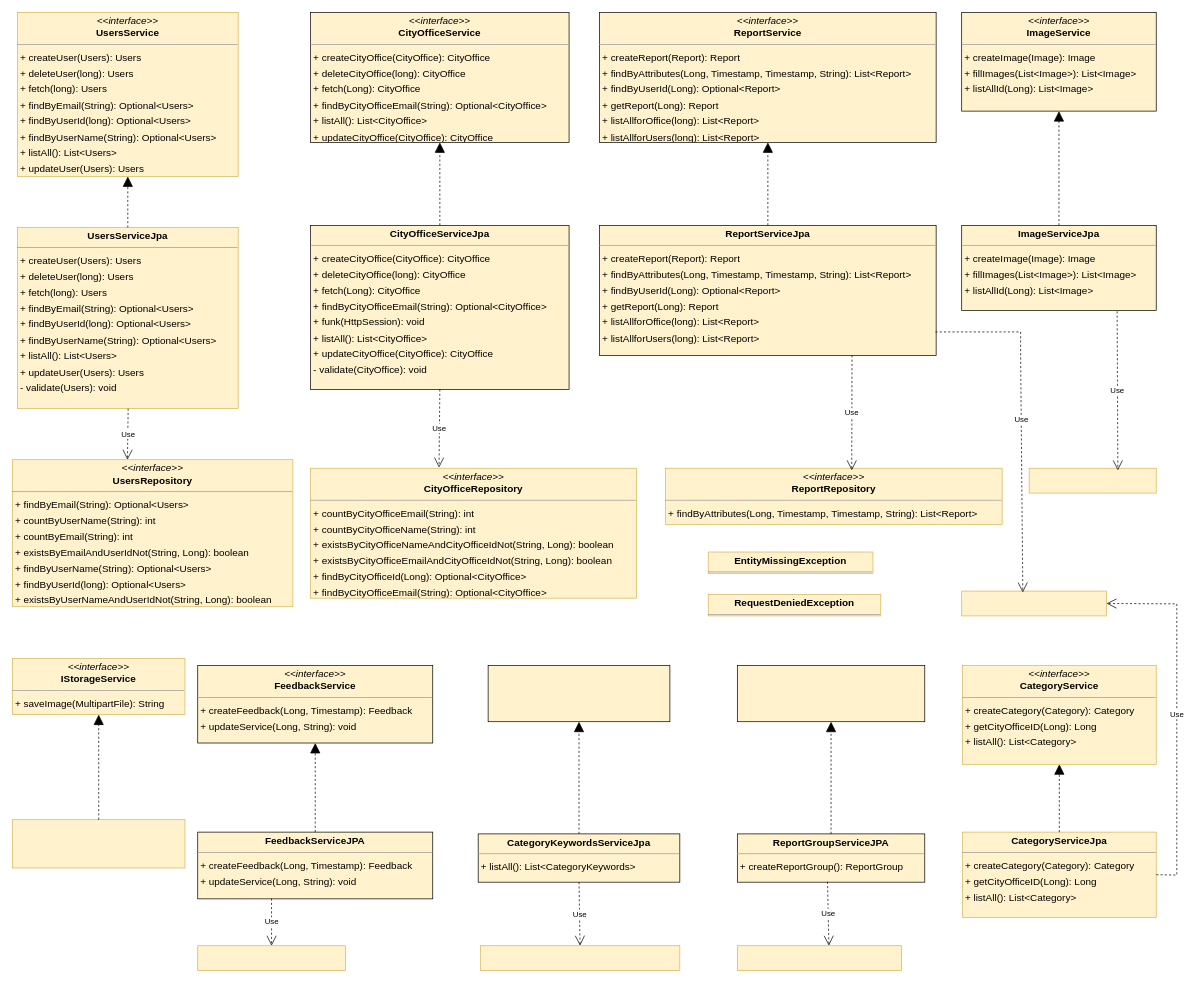
This 1199x983 diagram has some shape labels left out. The shapes that lost their labels are listed below. From the top down, each one's centre as x and y in pixels, then its label:
pixel 1092 480: <<interface>> ImageRepository
pixel 1034 603: <<interface>> CategoryRepository
pixel 578 693: <<interface>> CategoryKeywordsService + listAll(): List<CategoryKeywords>
pixel 831 693: <<interface>> ReportGroupService + createReportGroup(): ReportGroup
pixel 98 843: StorageService + saveImage(MultipartFile): String
pixel 271 958: <<interface>> FeedbackRepository
pixel 580 958: <<interface>> CategoryKeywordsRepository
pixel 819 958: <<interface>> ReportGroupRepository
